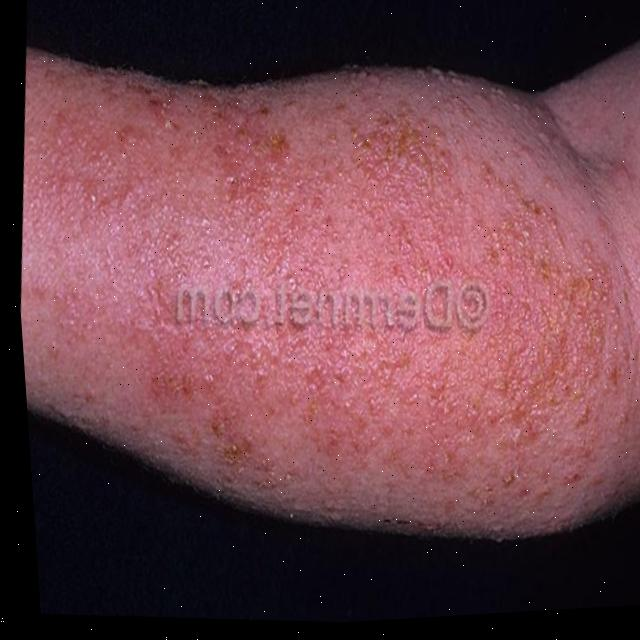Eczema: (109, 73, 615, 509)
